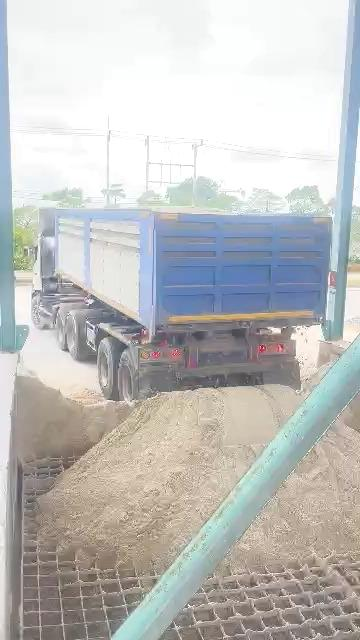sand: (41, 386, 300, 570), (229, 421, 360, 567), (14, 366, 131, 460), (305, 362, 333, 394), (149, 203, 230, 214), (342, 391, 360, 431)
